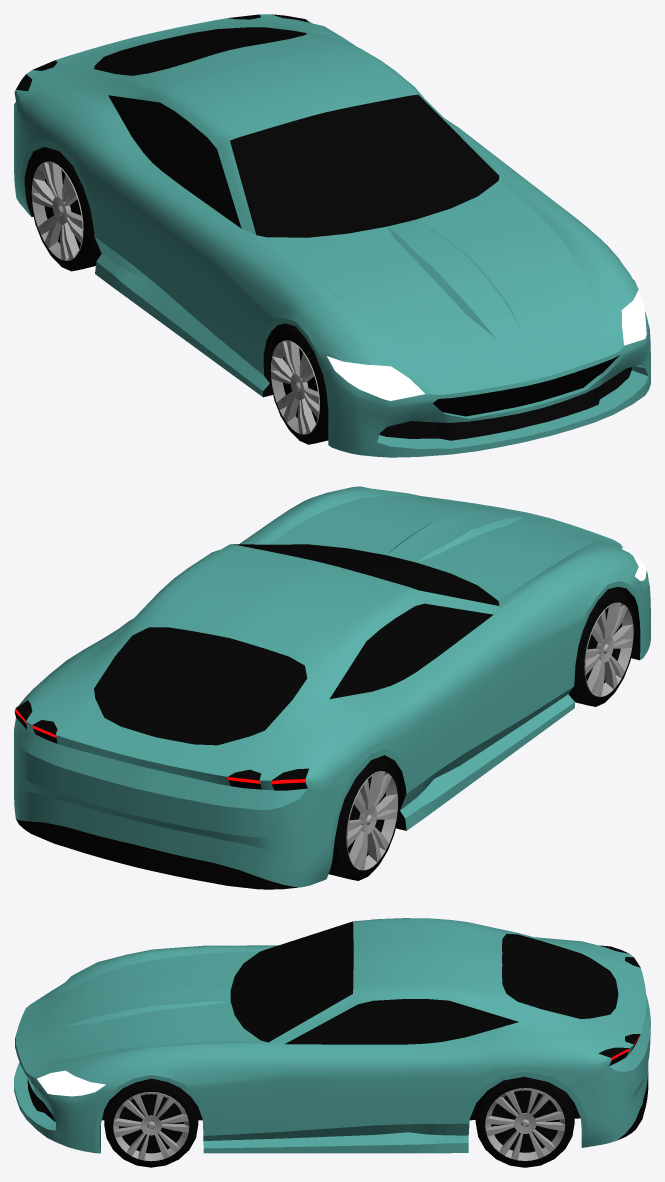
Rendered from Ferrari Roma.fbx.
3 renders of one model, top to bottom at view 1: azimuth 30°, elevation 25°; view 2: azimuth 150°, elevation 25°; view 3: azimuth 270°, elevation 25°, orthographic. The views are drawn at different scales.
Visible parts, largest first — view 1: Roma, BR_Wheel, FR_Wheel; view 2: Roma, BR_Wheel, FR_Wheel; view 3: Roma, BL_Wheel, FL_Wheel.
Part boxes in pixels (left/top/right/bottom): Roma: left=14, top=14, right=650, bottom=457; BR_Wheel: left=30, top=149, right=101, bottom=271; FR_Wheel: left=269, top=326, right=328, bottom=444; Roma: left=14, top=486, right=650, bottom=889; BR_Wheel: left=328, top=758, right=399, bottom=880; FR_Wheel: left=568, top=589, right=635, bottom=706; Roma: left=14, top=918, right=650, bottom=1153; BL_Wheel: left=475, top=1076, right=574, bottom=1167; FL_Wheel: left=104, top=1078, right=198, bottom=1167.
Size of the model in its own units: 207 by 126 by 459.
